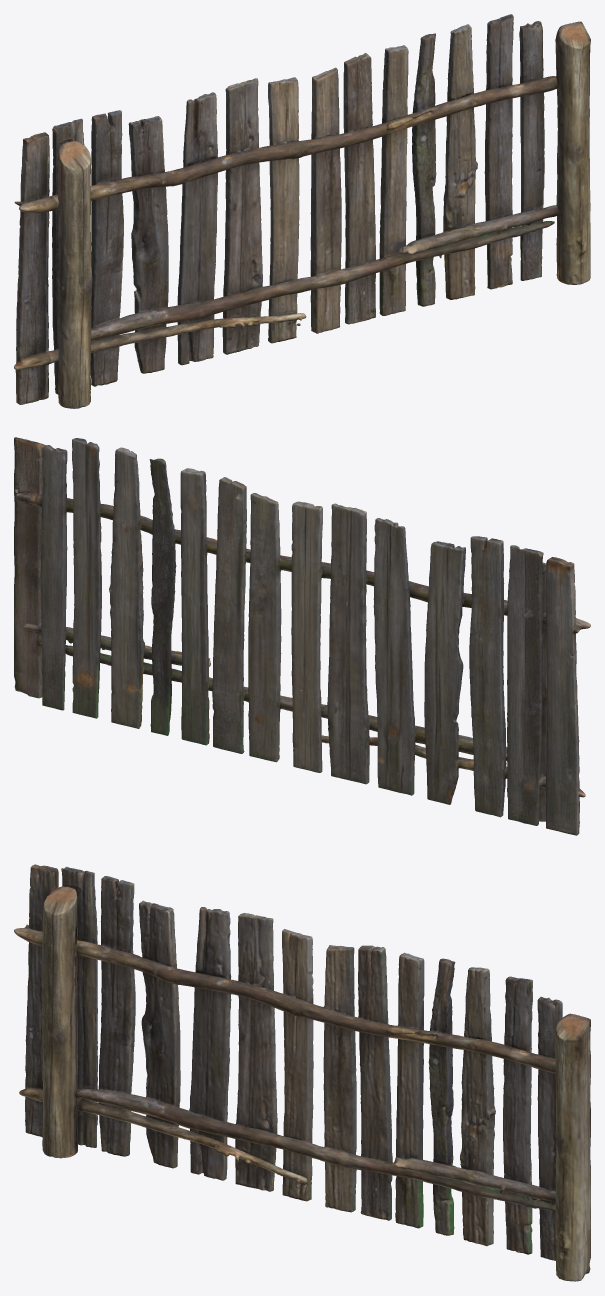
The model's file is Meshy_AI_Weathered_Fence_1221071028_texture.fbx.
The picture shows the model from 3 angles, top to bottom: view 1: azimuth 30°, elevation 25°; view 2: azimuth 150°, elevation 25°; view 3: azimuth 330°, elevation 25°; orthographic projection.
Visible parts, largest first — view 1: input; view 2: input; view 3: input.
Boxes of the visible parts, <box> form: input: <box>14,14,590,408</box>; input: <box>14,437,590,835</box>; input: <box>14,864,590,1281</box>.
Bounding box in the file's own units: 190 × 86.91 × 13.22.
Materials: 1 (1 with a texture image).
